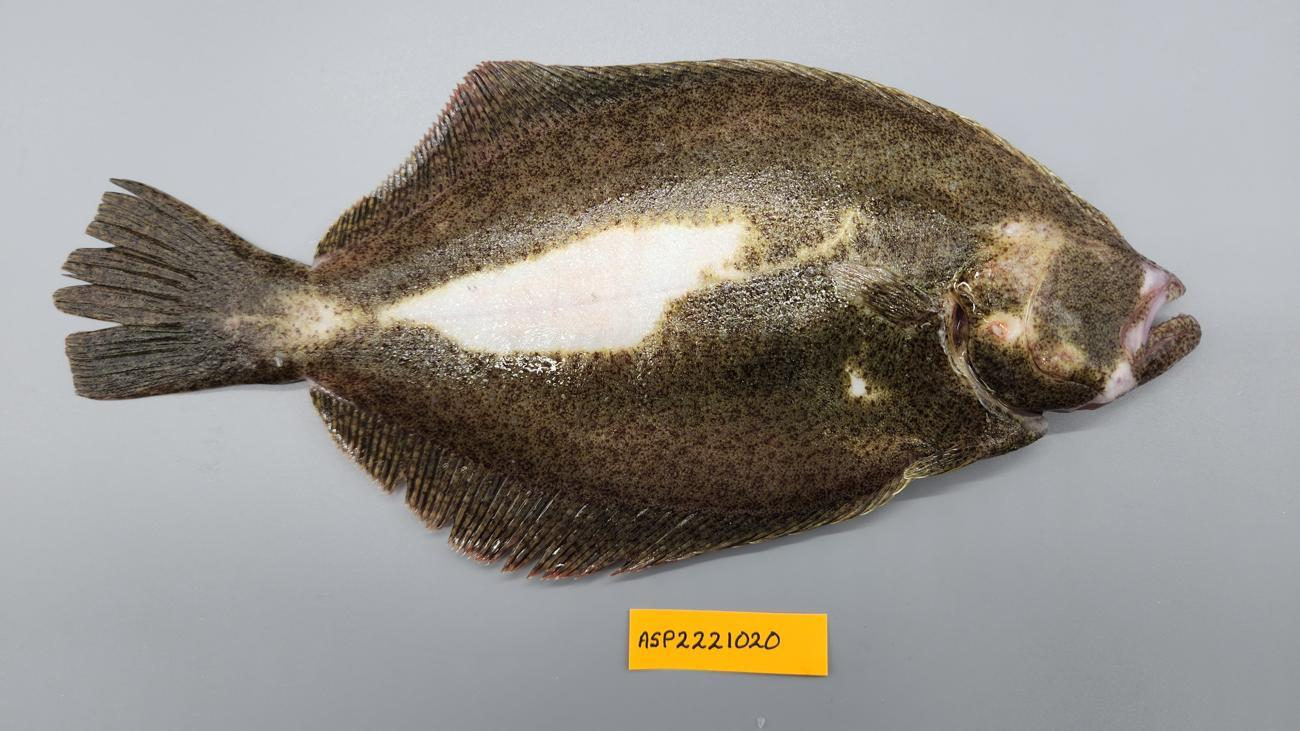SPDYH: (319, 84, 832, 285), (307, 355, 908, 514)
SPFCH: (58, 179, 222, 404)
SPFDH: (314, 60, 616, 268)
SPOUY: (39, 47, 1209, 583)
